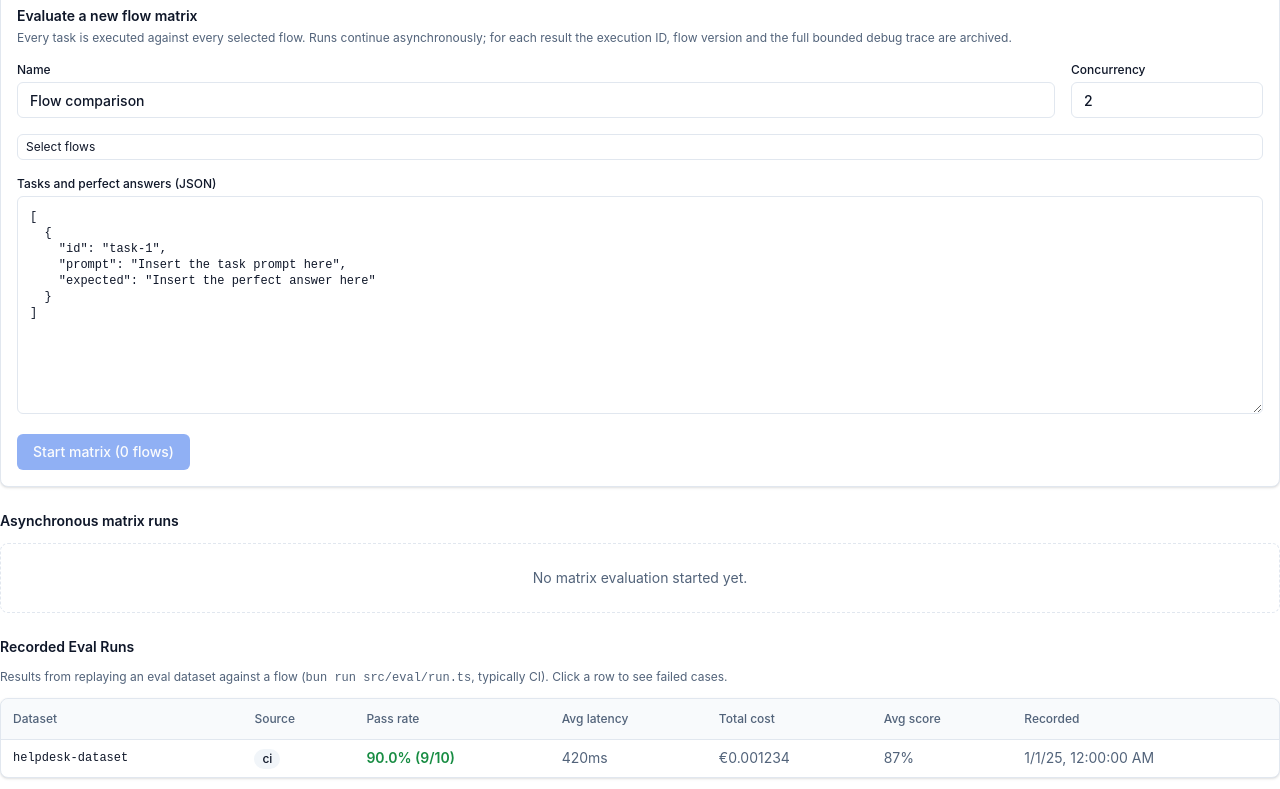
Test: EvalRunsPanel › expands a run row to reveal failed-case detail
The image size is (1280, 789).
Check: the text "case-1" is not shown
Click the text "helpdesk-dataset" at (122, 758), box [1, 739, 242, 776]
(page scrolled)
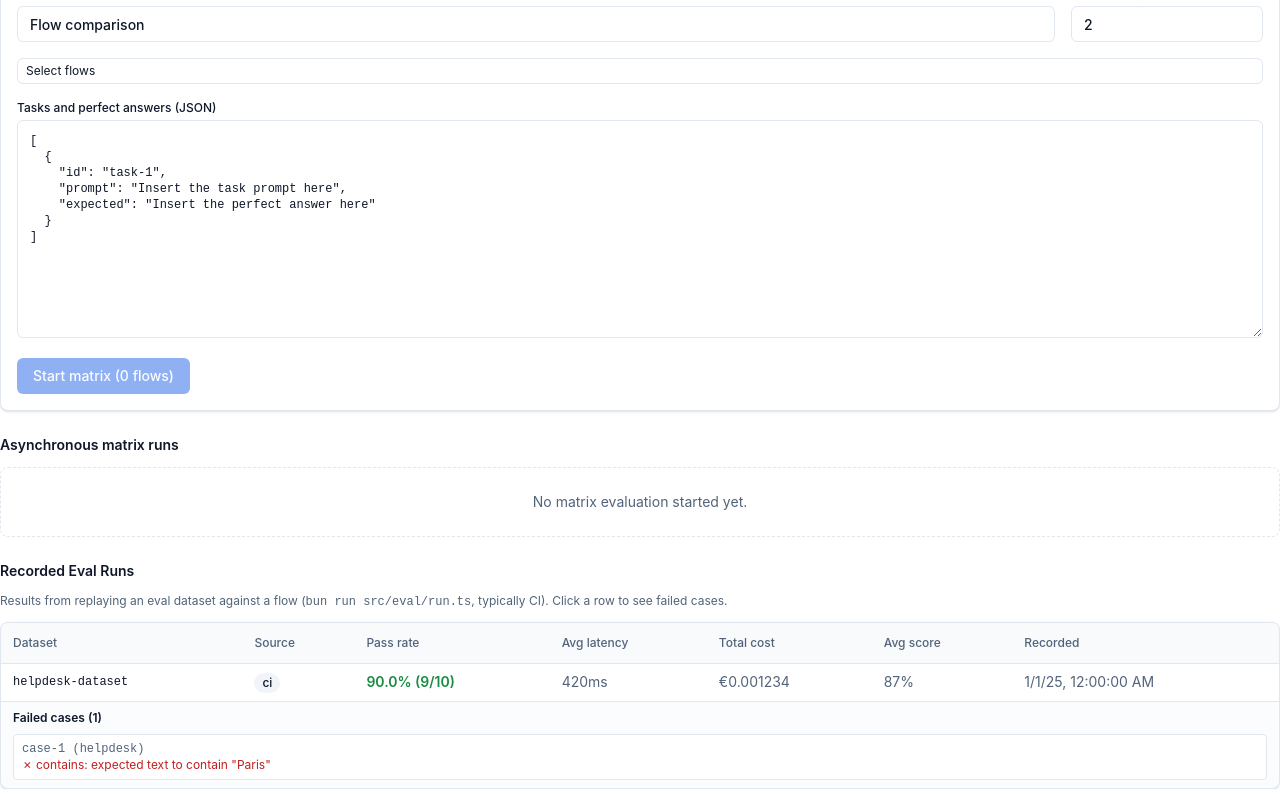
Check: the text "case-1 (helpdesk)" is shown, box [22, 742, 144, 756]
Check: the text "✗ contains: expected text to contain \"Paris\"" is shown, box [22, 756, 271, 772]
